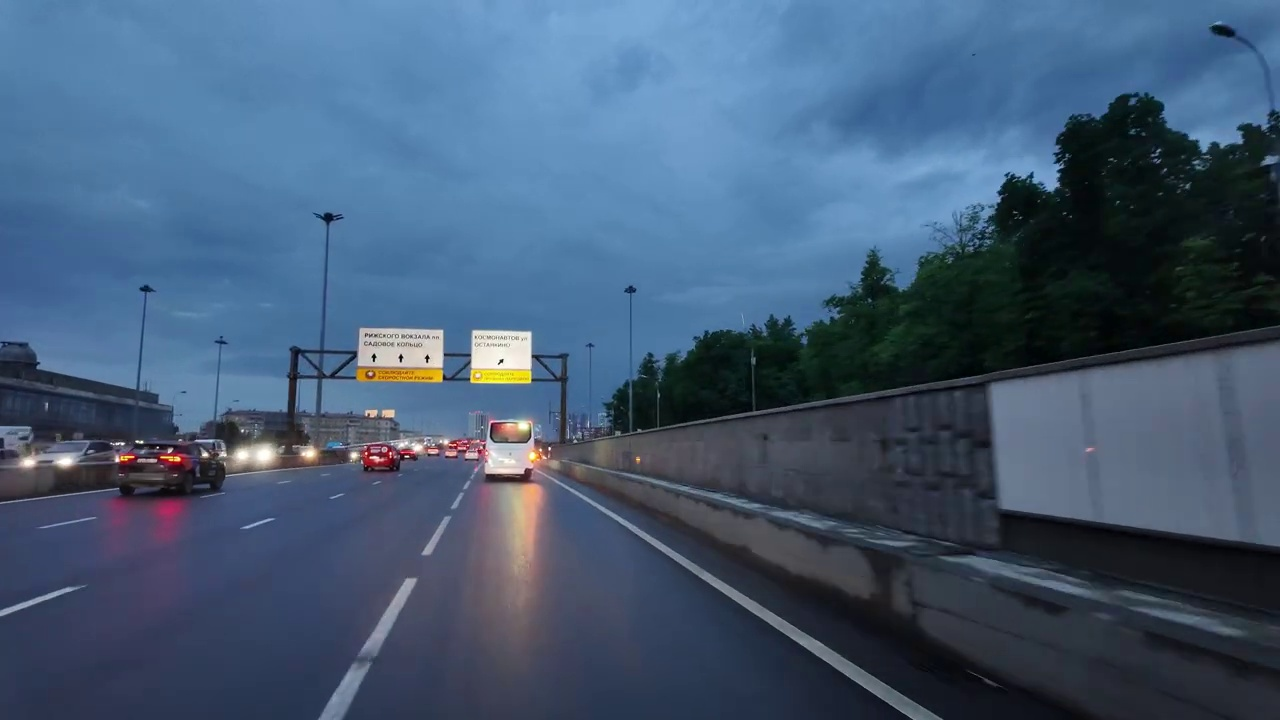apagada: (314, 206, 342, 231), (1209, 21, 1239, 44), (135, 280, 157, 301), (620, 281, 641, 301)
